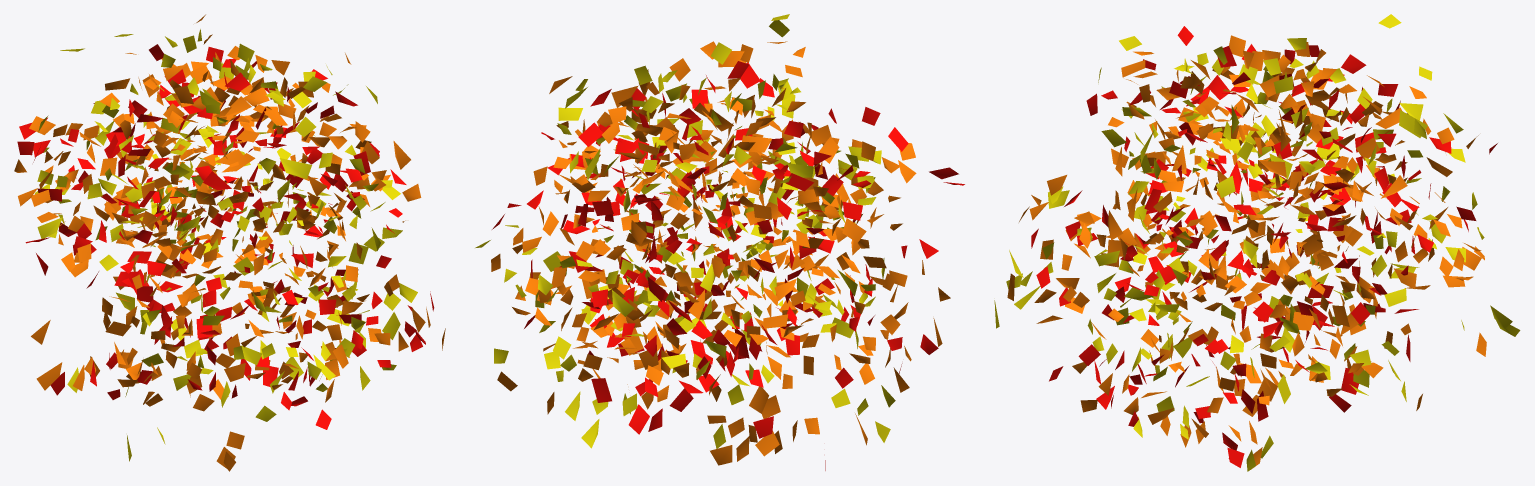
File: leafsDense1.fbx
3 views of the same model, side by side, from view 1: azimuth 30°, elevation 25°; view 2: azimuth 150°, elevation 25°; view 3: azimuth 270°, elevation 25° (orthographic). The views are drawn at different scales.
Parts seen in each view (by area): view 1: leafsDense1_LOD0; view 2: leafsDense1_LOD0; view 3: leafsDense1_LOD0.
Boxes of the visible parts, left/top/right/bottom form: leafsDense1_LOD0: left=14, top=14, right=445, bottom=471; leafsDense1_LOD0: left=475, top=14, right=964, bottom=470; leafsDense1_LOD0: left=994, top=14, right=1520, bottom=471.
Size of what is drawn, in the model's own units: 955 by 911 by 1031.
